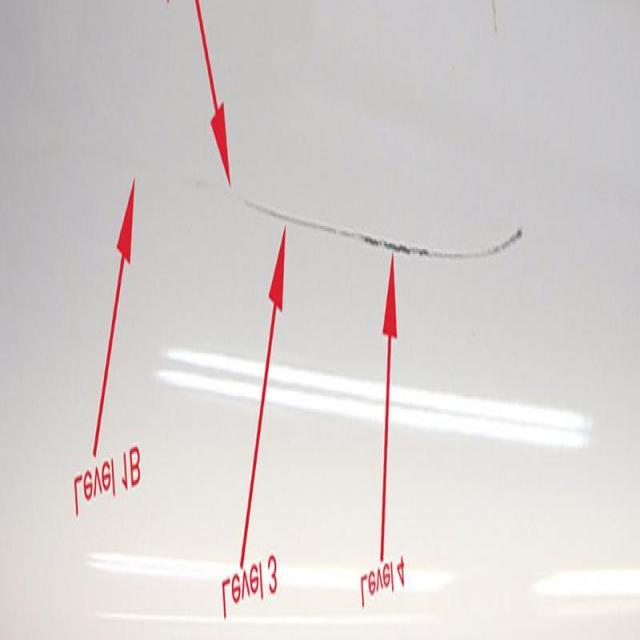scratch: (234, 165, 528, 277)
